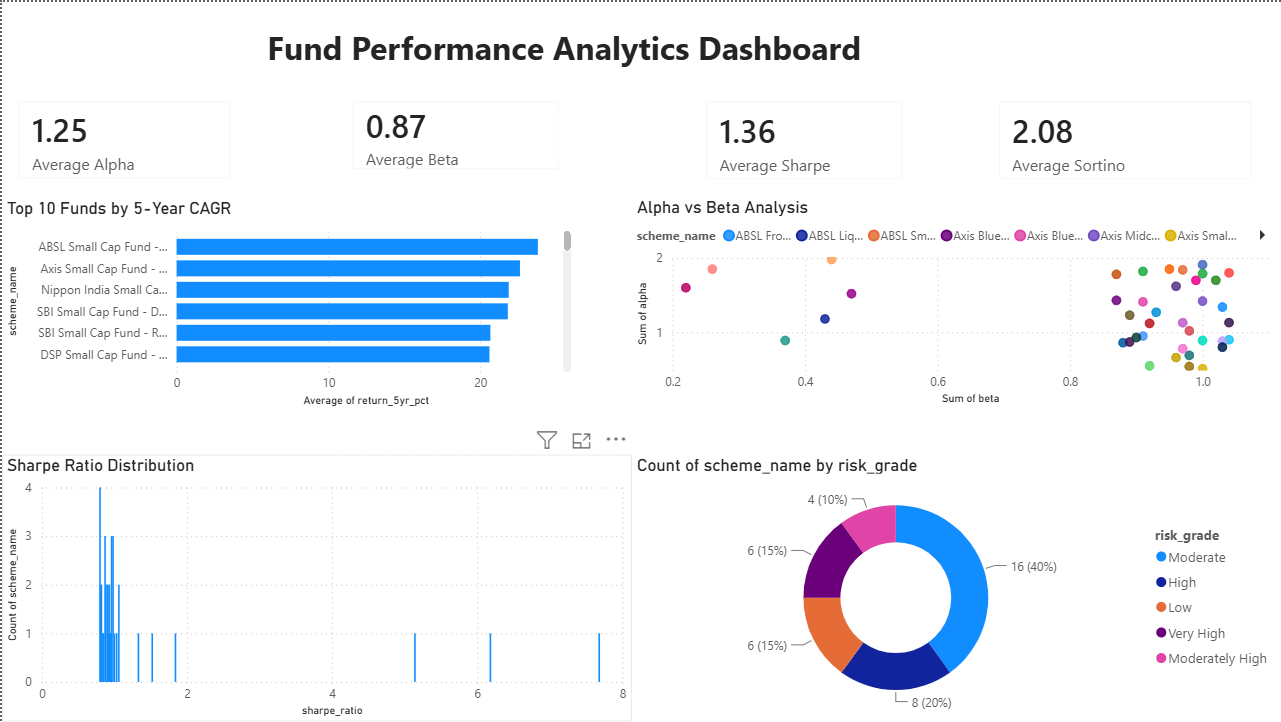

The page's visual inventory and layout, read from the dashboard file:
{"tool":"powerbi","page":{"name":"Fund Performance Analytics","canvas":[1280,720],"ordinal":1},"visuals":[{"type":"textbox","box":[0,18.6,1124.3,64.3],"z":0},{"type":"cardVisual","fields":{"Data":["scheme_performance_clean.Average Beta"]},"box":[334.3,82.9,240,102.9],"z":1000},{"type":"cardVisual","fields":{"Data":["scheme_performance_clean.Average Alpha"]},"box":[0,82.9,245.7,111.4],"z":2000},{"type":"cardVisual","fields":{"Data":["scheme_performance_clean.Average Sharpe"]},"box":[687.5,82.5,230,112.5],"z":3000},{"type":"cardVisual","fields":{"Data":["scheme_performance_clean.Average Sortino"]},"box":[980,82.5,287.5,112.5],"z":4000},{"type":"scatterChart","title":"Alpha vs Beta Analysis","fields":{"X":["Sum(scheme_performance_clean.beta)"],"Y":["Sum(scheme_performance_clean.alpha)"],"Series":["scheme_performance_clean.scheme_name"]},"box":[630,195,650,212.5],"z":5000},{"type":"columnChart","title":"Sharpe Ratio Distribution","fields":{"Y":["CountNonNull(scheme_performance_clean.scheme_name)"],"Category":["scheme_performance_clean.sharpe_ratio"]},"box":[0,452.5,630,267.5],"z":6000},{"type":"donutChart","fields":{"Category":["scheme_performance_clean.risk_grade"],"Y":["CountNonNull(scheme_performance_clean.scheme_name)"]},"box":[630,452.5,650,267.5],"z":7000},{"type":"clusteredBarChart","title":"Top 10 Funds by 5-Year CAGR","fields":{"Category":["fund_master_clean.scheme_name"],"Y":["Avg(scheme_performance_clean.return_5yr_pct)"]},"box":[0,195.7,574.3,212.9],"z":8000}]}

Visuals, with their boxes in screenshot pixels (x1, y1, x2, y2), scaled from the page's 1280x720 canvas onto the 1281x722 screenshot:
textbox: (0,19,1125,83)
cardVisual - scheme_performance_clean.Average Beta: (335,83,575,186)
cardVisual - scheme_performance_clean.Average Alpha: (0,83,246,195)
cardVisual - scheme_performance_clean.Average Sharpe: (688,83,918,196)
cardVisual - scheme_performance_clean.Average Sortino: (981,83,1268,196)
"Alpha vs Beta Analysis" scatterChart: (630,196,1280,409)
"Sharpe Ratio Distribution" columnChart: (0,454,630,721)
donutChart - scheme_performance_clean.risk_grade x CountNonNull(scheme_performance_clean.scheme_name): (630,454,1280,721)
"Top 10 Funds by 5-Year CAGR" clusteredBarChart: (0,196,575,410)
